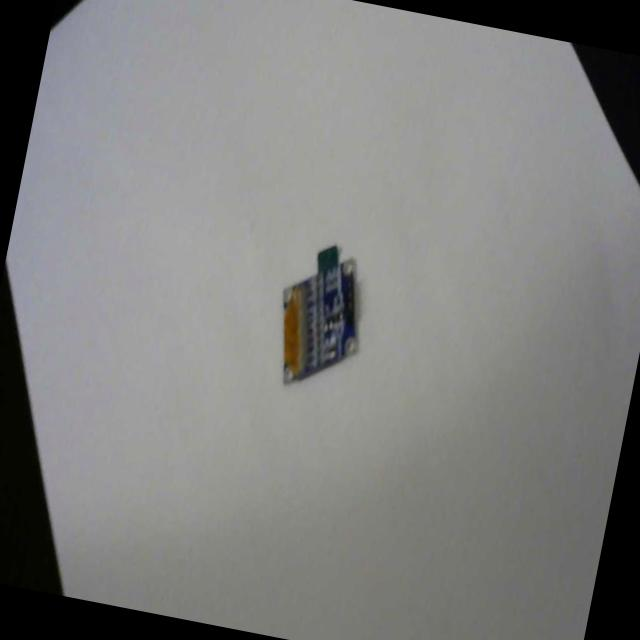oled: (266, 226, 386, 398)
